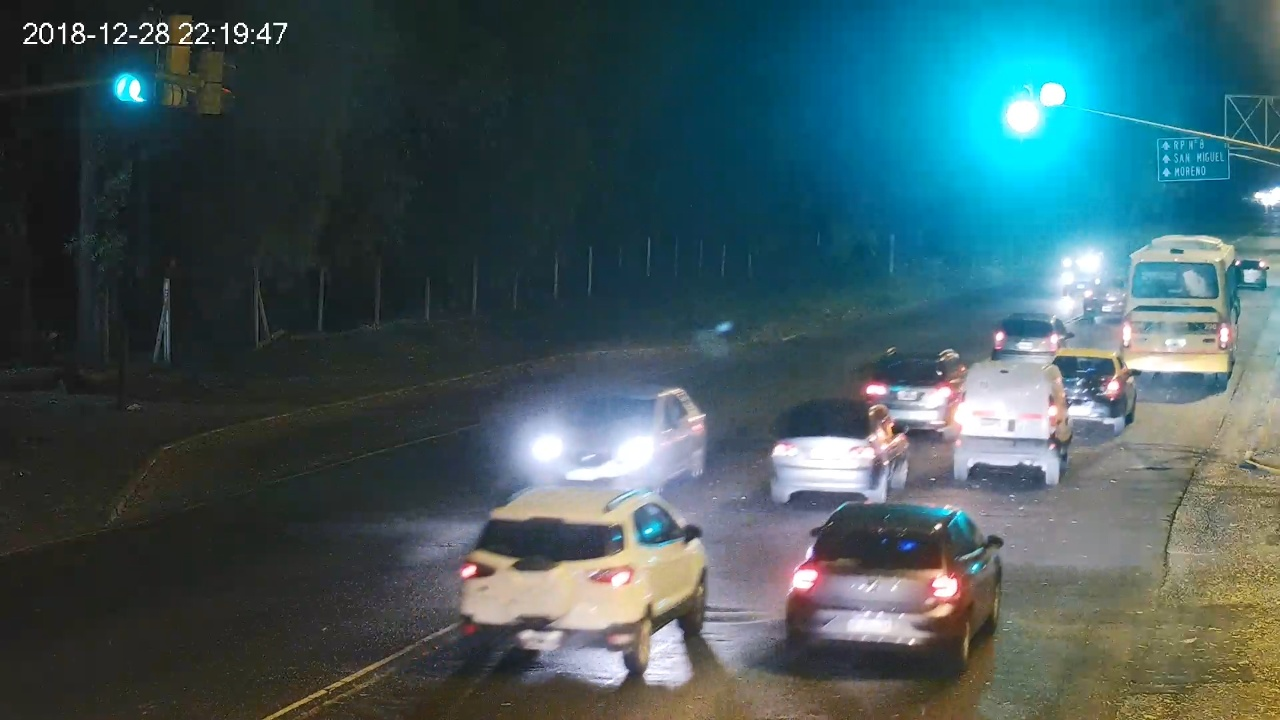bus: (1121, 235, 1240, 382)
car: (463, 485, 707, 672), (787, 500, 1005, 670), (954, 362, 1082, 485), (769, 400, 908, 502)
